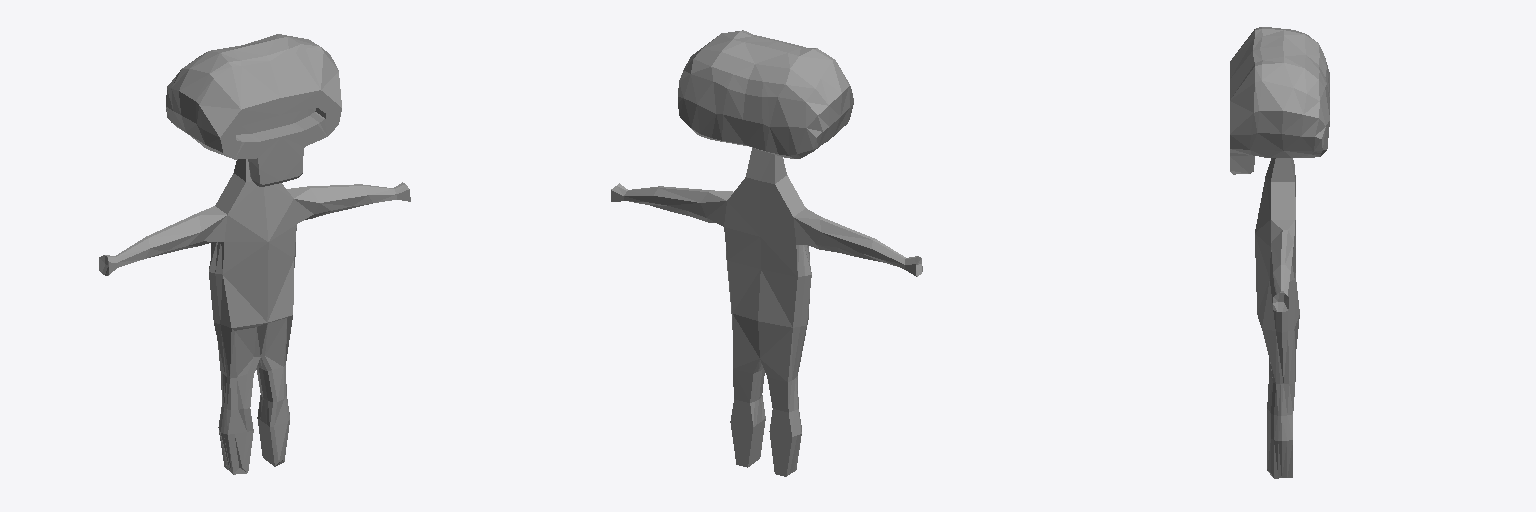
Rendered from model_Player.obj.
The picture shows the model from 3 angles: view 1: azimuth 30°, elevation 25°; view 2: azimuth 150°, elevation 25°; view 3: azimuth 270°, elevation 25°; orthographic projection.
Parts seen in each view (by area): view 1: Plane; view 2: Plane; view 3: Plane.
Part boxes in pixels (x1,y1,x2,y2): Plane: (99,34,410,474); Plane: (611,30,922,476); Plane: (1230,27,1329,478).
Bounding box in the file's own units: 6.95 × 9.15 × 1.99.